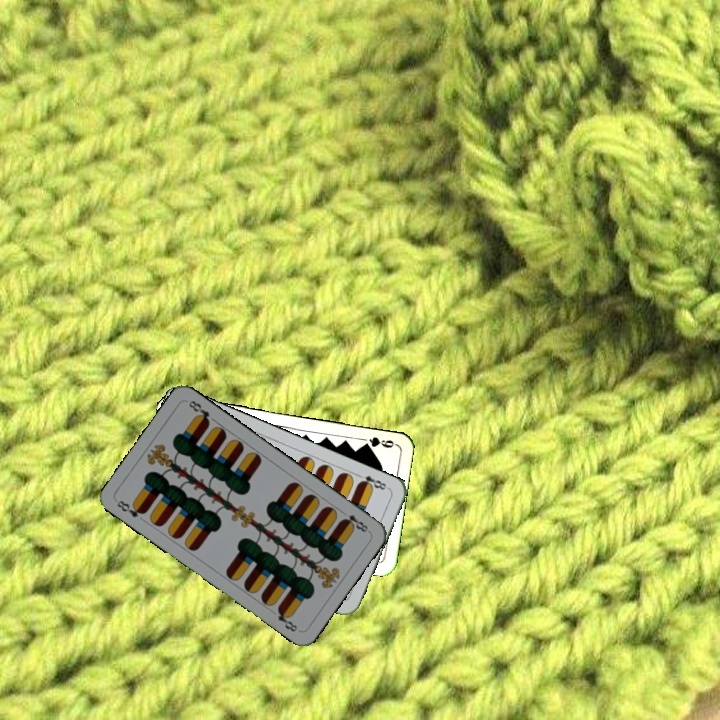E8: (113, 496, 149, 520), (338, 510, 372, 535), (353, 470, 391, 492)
G9: (358, 433, 398, 451)
